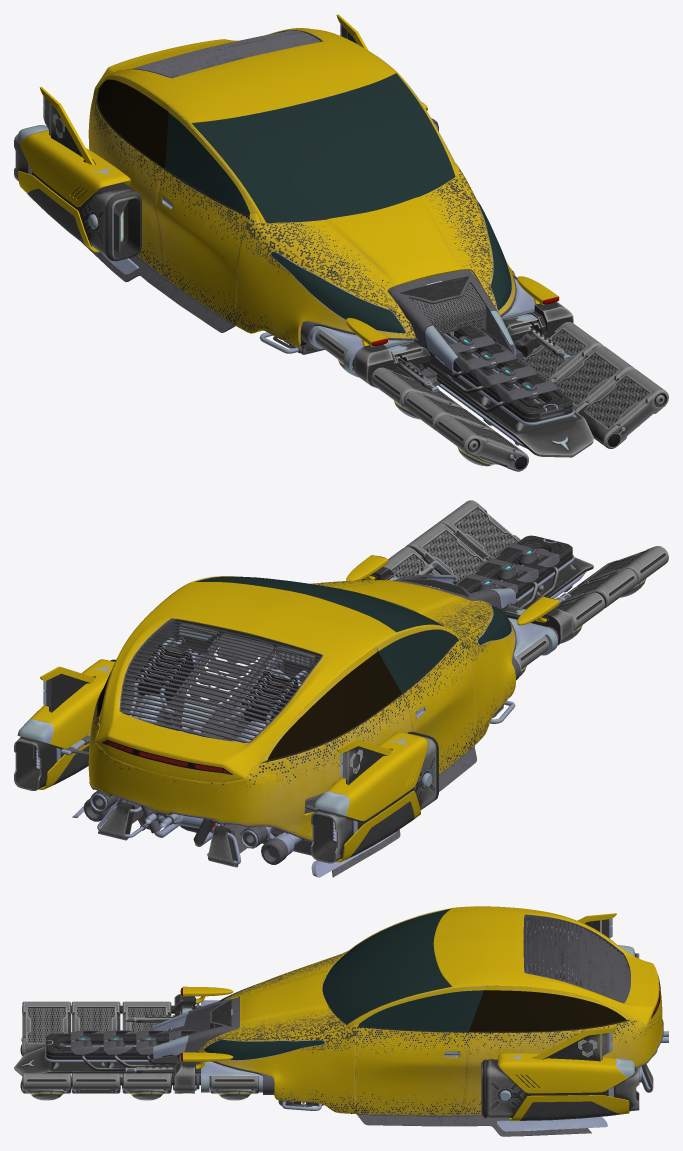
3 views of the same model, one above another, from view 1: azimuth 30°, elevation 25°; view 2: azimuth 150°, elevation 25°; view 3: azimuth 270°, elevation 25° (orthographic). The views are drawn at different scales.
Visible parts, largest first — view 1: Glass.002, Body_1_low.001, Body_3_low.001, Body_2_low.002, Body_3_low, Small_Engine.004, RailGun_1_low.001, Body_1_low.002, Outside_Engine_2_low, Small_Engine.002, HeadLightsGlass, Glass.001 (+21 smaller); view 2: Body_3_low.001, Body_1_low.002, Stripes_Bake_1_low, Outside_Engine_2_low, Body_2_low.002, Glass.001, Body_1_low.001, Small_Engine.004, Body_3_low, Small_Engine.002, Outside_Engine_1_low.004, Glass.002 (+29 smaller); view 3: Body_3_low.001, Body_2_low.002, Glass.002, Body_3_low, Body_1_low.001, Stripes_Bake_1_low, Body_1_low.002, Glass.001, Outside_Engine_2_low, Glass, RailGun_1_low.001, Small_Engine.004 (+31 smaller).
Boxes of the visible parts, bbox=[...] form: Glass.002: bbox=[192, 73, 455, 222]; Body_1_low.001: bbox=[261, 175, 490, 317]; Body_3_low.001: bbox=[95, 28, 458, 223]; Body_2_low.002: bbox=[156, 170, 249, 324]; Body_3_low: bbox=[234, 168, 515, 347]; Small_Engine.004: bbox=[435, 368, 668, 471]; RailGun_1_low.001: bbox=[387, 270, 515, 374]; Body_1_low.002: bbox=[88, 86, 164, 276]; Outside_Engine_2_low: bbox=[19, 101, 427, 207]; Small_Engine.002: bbox=[403, 345, 634, 431]; HeadLightsGlass: bbox=[271, 202, 511, 333]; Glass.001: bbox=[98, 79, 168, 168]; Body_3_low.001: bbox=[95, 576, 451, 782]; Body_1_low.002: bbox=[88, 695, 412, 840]; Stripes_Bake_1_low: bbox=[121, 620, 320, 742]; Outside_Engine_2_low: bbox=[20, 659, 427, 820]; Body_2_low.002: bbox=[402, 639, 474, 774]; Glass.001: bbox=[98, 651, 401, 759]; Body_1_low.001: bbox=[310, 580, 490, 636]; Small_Engine.004: bbox=[437, 500, 668, 585]; Body_3_low: bbox=[457, 603, 515, 744]; Small_Engine.002: bbox=[405, 523, 637, 608]; Outside_Engine_1_low.004: bbox=[14, 736, 355, 863]; Glass.002: bbox=[195, 576, 444, 632]; Body_3_low.001: bbox=[322, 906, 661, 1026]; Body_2_low.002: bbox=[355, 1027, 468, 1115]; Glass.002: bbox=[322, 909, 451, 1024]; Body_3_low: bbox=[198, 950, 357, 1113]; Body_1_low.001: bbox=[211, 952, 348, 1039]; Stripes_Bake_1_low: bbox=[523, 916, 630, 1002]; Body_1_low.002: bbox=[460, 1003, 662, 1115]; Glass.001: bbox=[469, 990, 625, 1031]; Outside_Engine_2_low: bbox=[498, 1052, 627, 1093]; Glass: bbox=[358, 990, 484, 1031]; RailGun_1_low.001: bbox=[153, 997, 239, 1064]; Small_Engine.004: bbox=[22, 1001, 70, 1093].
Bounding box in the file's own units: 2.9 × 1.51 × 6.19.
Materials: 3 (3 with a texture image).
